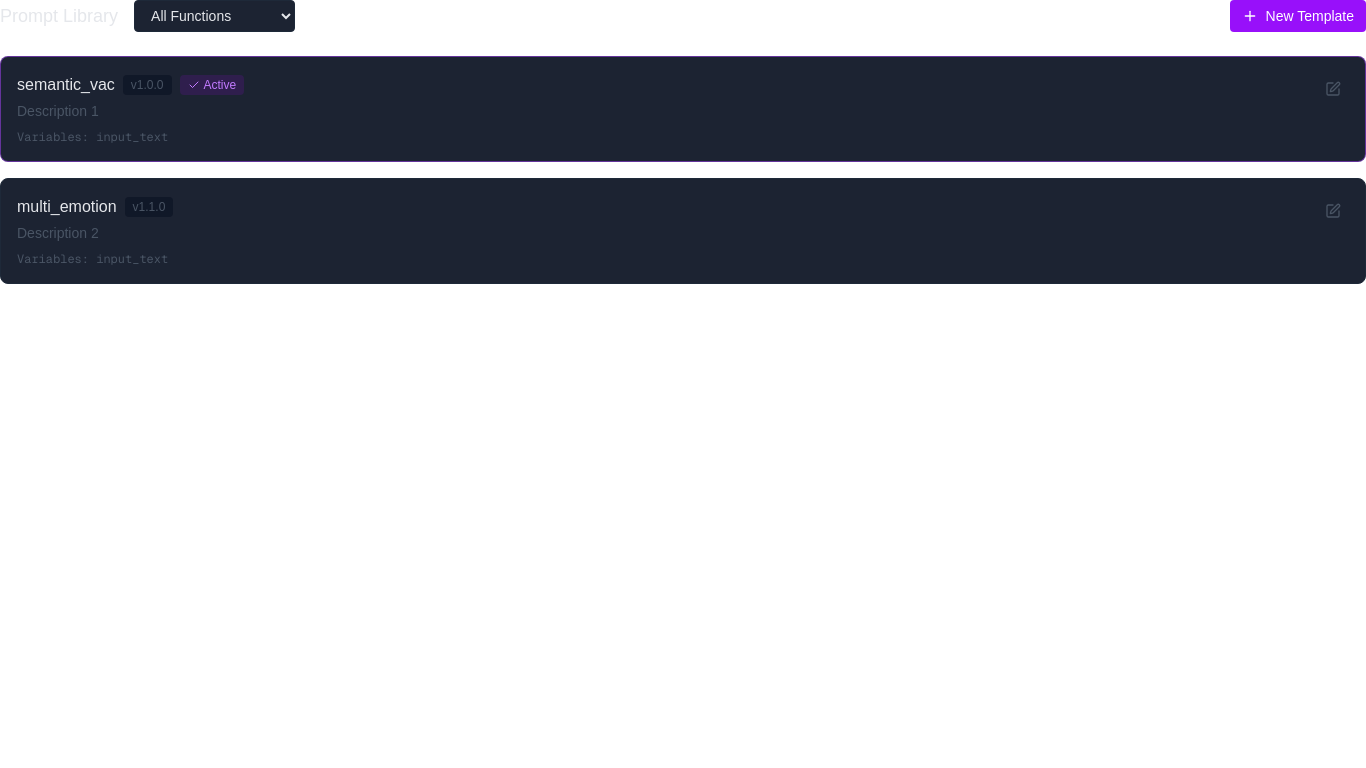
Test: PromptTemplatesTab › closes editor via close button
The width and height of the screenshot is (1366, 768).
Click the button "New Template".
click(1298, 16)  # box [1230, 0, 1365, 32]
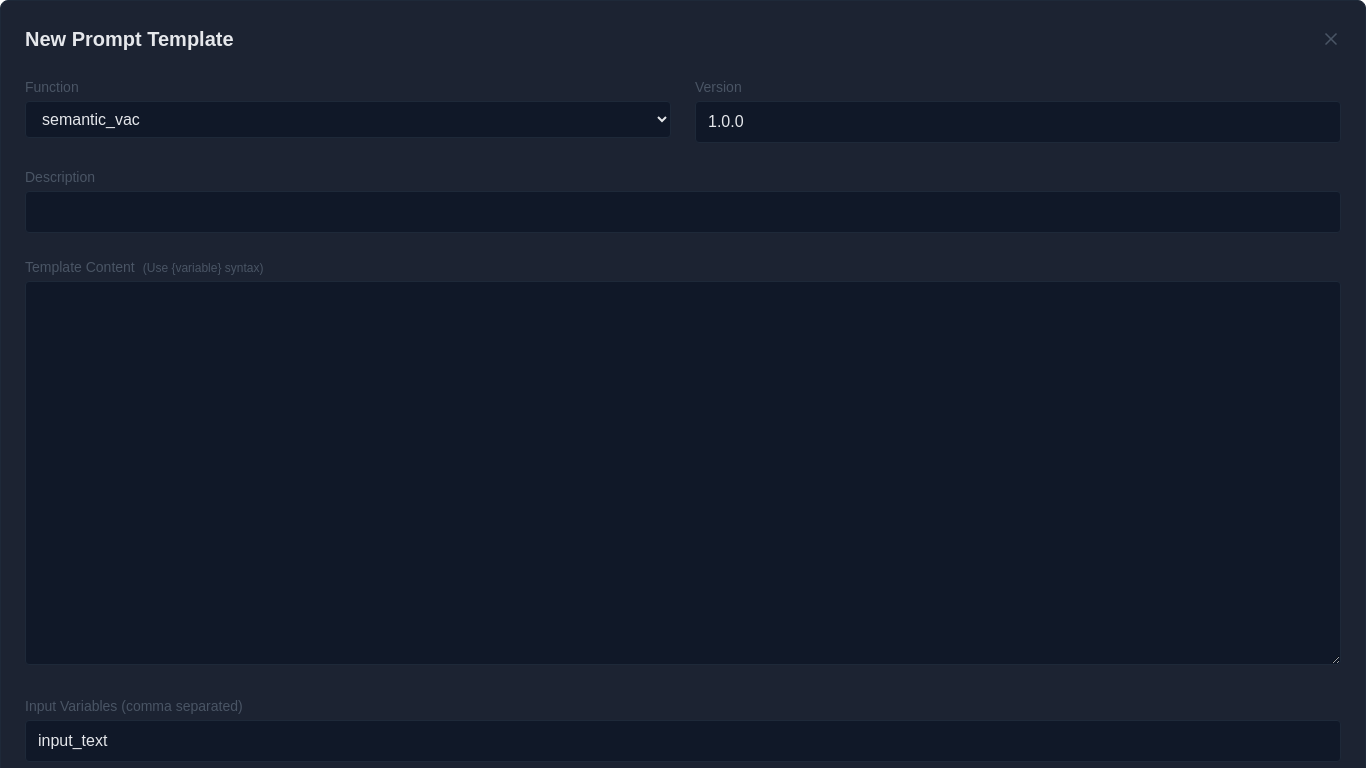
Result: the heading "New Prompt Template" is shown at [25, 25, 234, 53]
Click the button named "Close Editor".
click(1331, 39)  # box [1321, 29, 1341, 49]
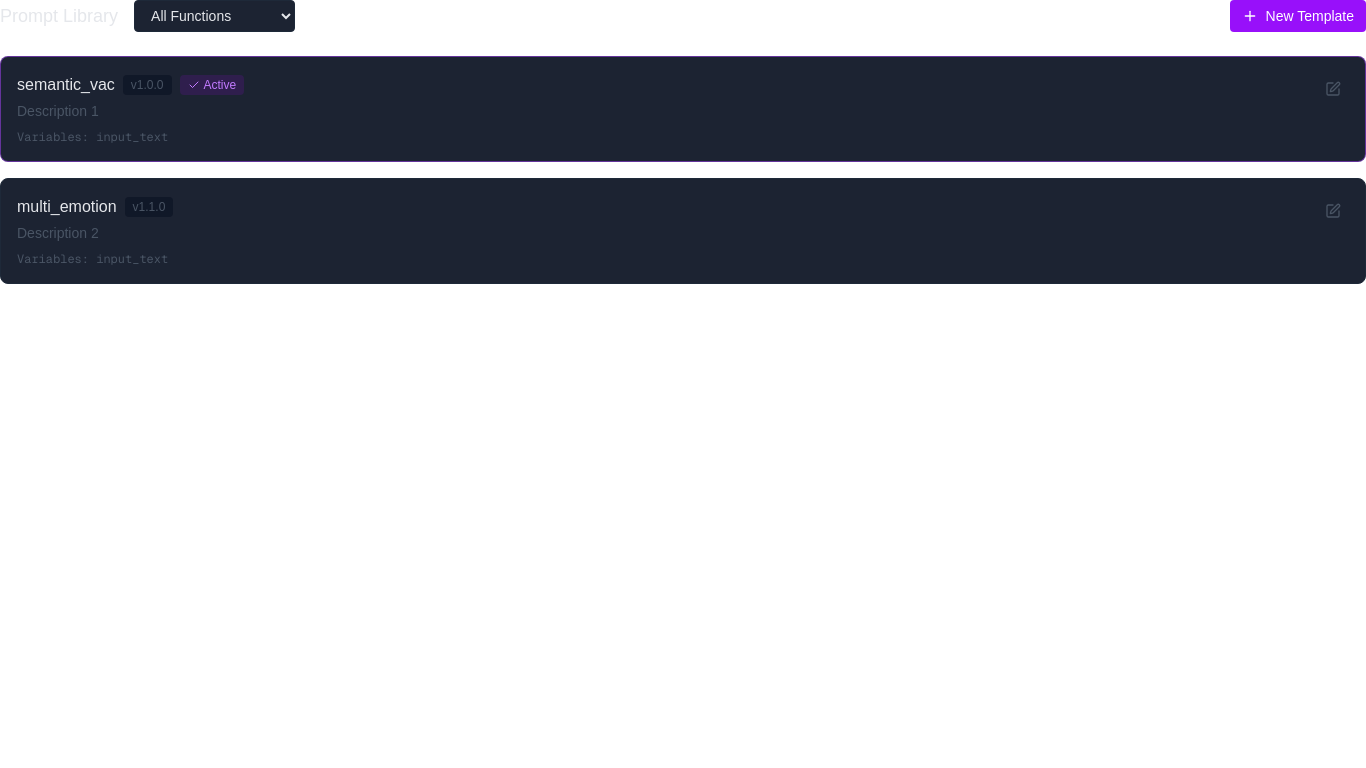
Result: the heading "New Prompt Template" is gone
